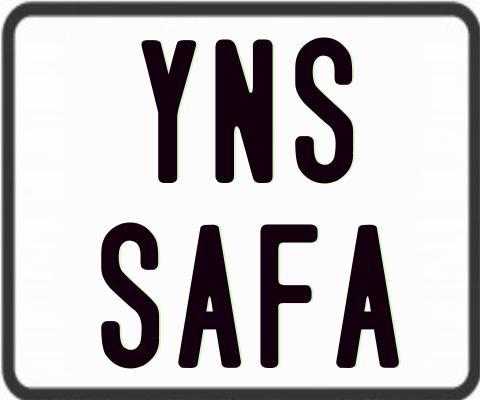A: (176, 223, 243, 372), (335, 224, 398, 371)
F: (259, 221, 321, 369)
N: (214, 39, 272, 187)
S: (100, 221, 164, 372), (294, 35, 357, 184)
Y: (140, 38, 196, 182)
